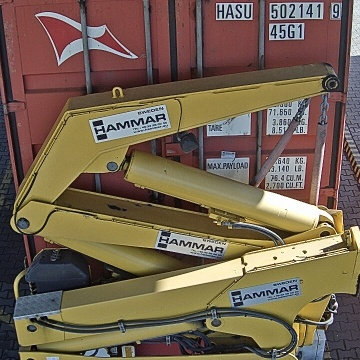serial_id: (216, 3, 341, 19)
